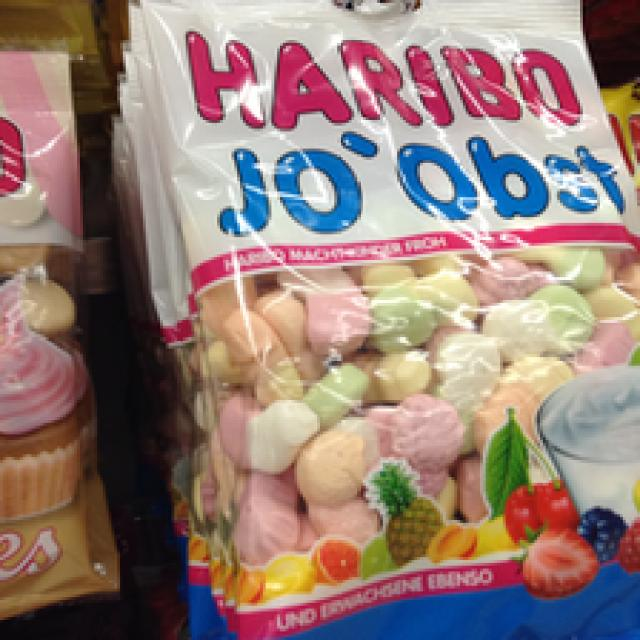groceries: (143, 0, 631, 626)
